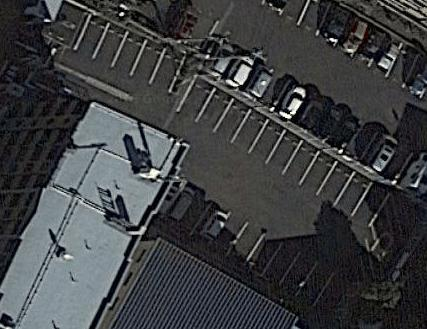parkingspot: (174, 72, 395, 231), (199, 32, 417, 185), (156, 176, 353, 310), (250, 0, 426, 103), (71, 11, 189, 96)
